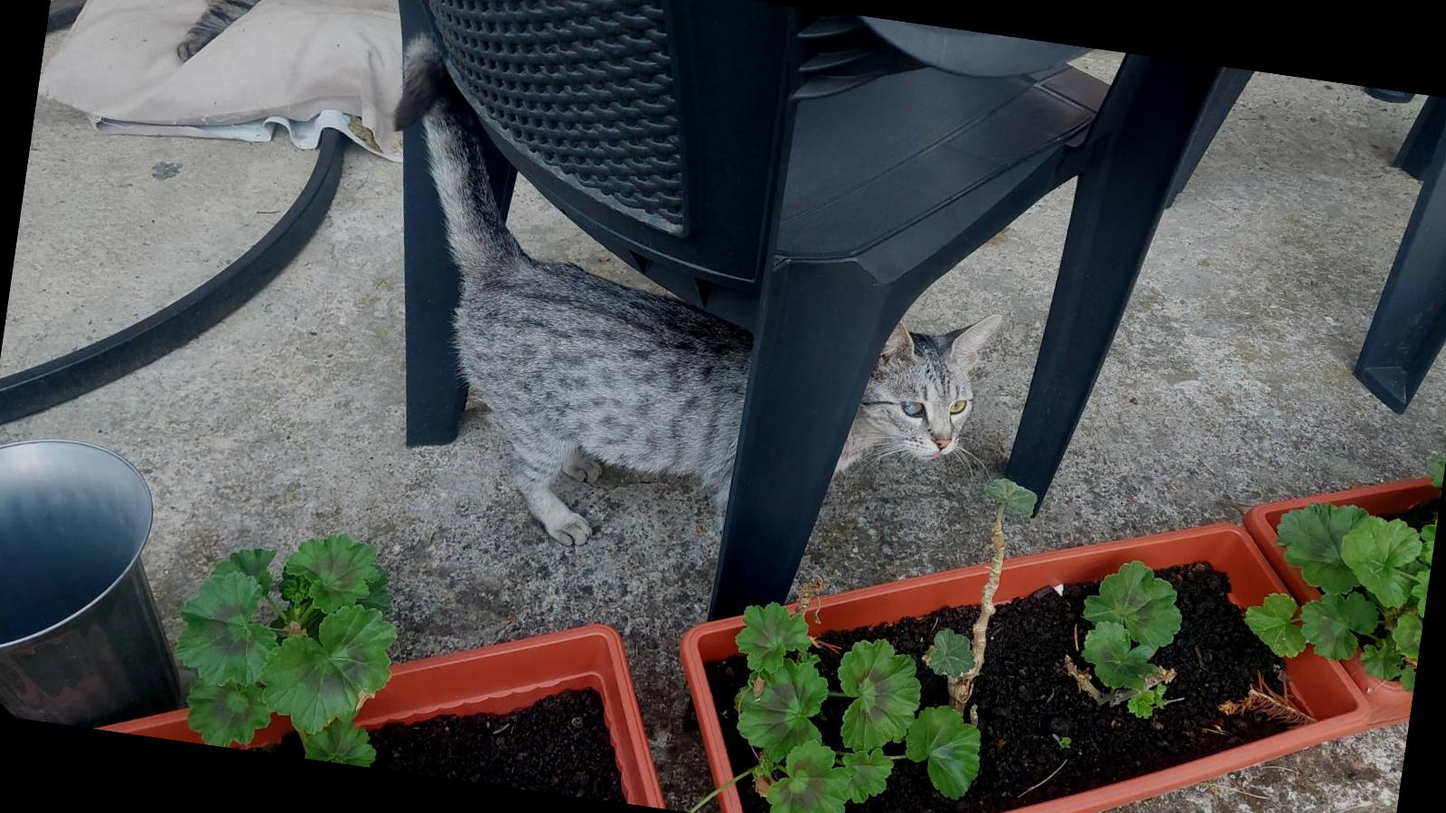macka: (335, 28, 1033, 607), (127, 0, 447, 97)
